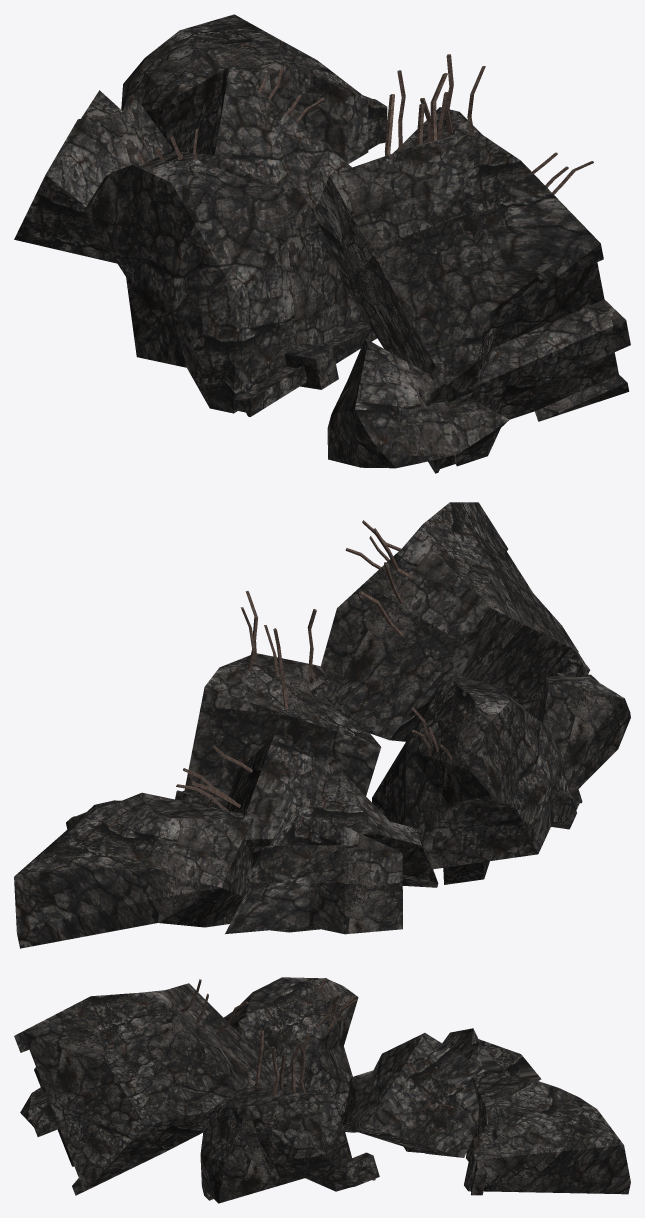
File: Rock_BrokenMedium.fbx
3 renders of one model, top to bottom at view 1: azimuth 30°, elevation 25°; view 2: azimuth 150°, elevation 25°; view 3: azimuth 270°, elevation 25°, orthographic. The views are drawn at different scales.
Visible parts, largest first — view 1: SMO_BG00_walkway_break2_ILCA; view 2: SMO_BG00_walkway_break2_ILCA; view 3: SMO_BG00_walkway_break2_ILCA.
Boxes of the visible parts, left/top/right/bottom form: SMO_BG00_walkway_break2_ILCA: left=14, top=14, right=630, bottom=473; SMO_BG00_walkway_break2_ILCA: left=14, top=502, right=630, bottom=948; SMO_BG00_walkway_break2_ILCA: left=14, top=977, right=630, bottom=1203.
Bounding box in the file's own units: 1328 × 998 × 2664.
